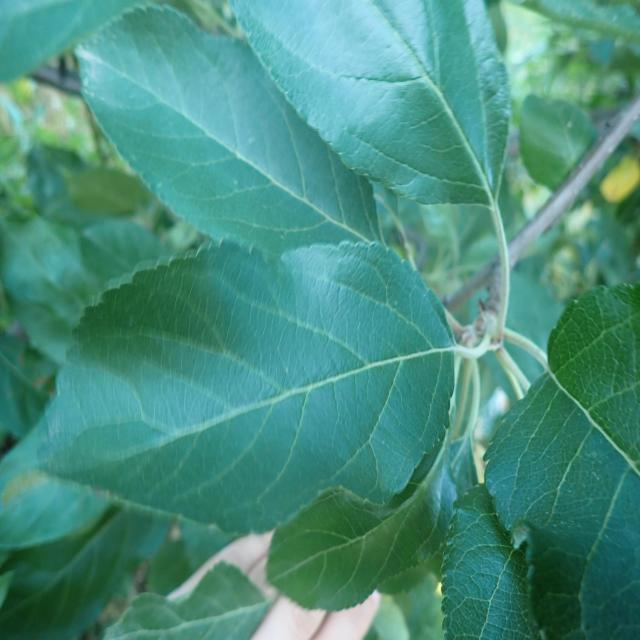healthy: (32, 237, 456, 534), (76, 2, 384, 262), (228, 0, 512, 208), (482, 280, 640, 640), (267, 430, 479, 613), (438, 482, 539, 640), (102, 560, 271, 640), (0, 0, 144, 84)
